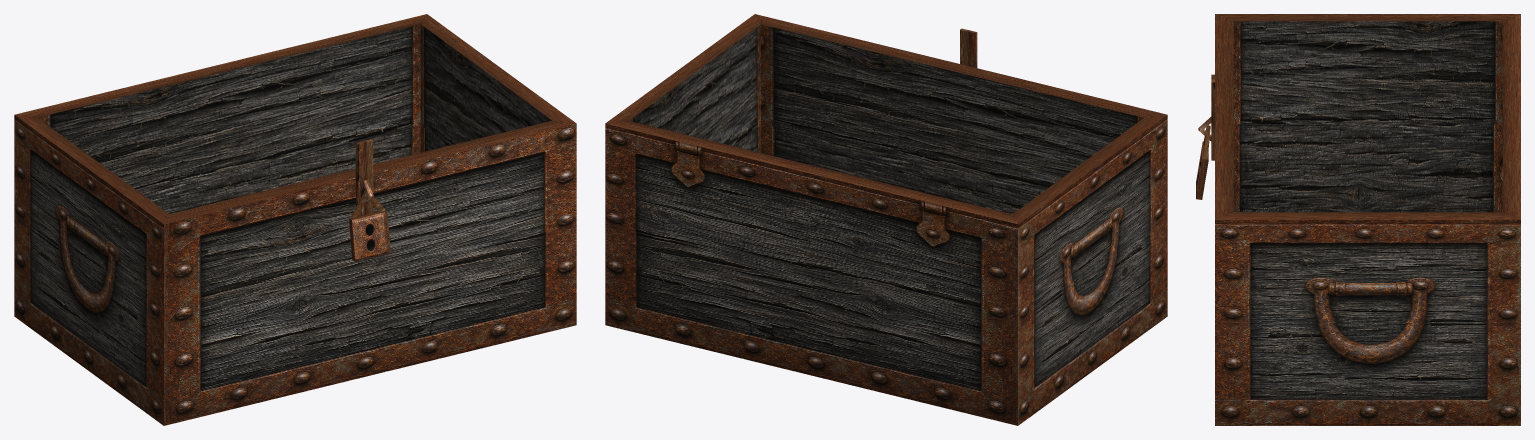
The model's file is mm9_deco_chest1.glb.
The picture shows the model from 3 angles, left to right: view 1: azimuth 30°, elevation 25°; view 2: azimuth 150°, elevation 25°; view 3: azimuth 270°, elevation 25°; orthographic projection. The views are drawn at different scales.
Visible parts, largest first — view 1: Chest1; view 2: Chest1; view 3: Chest1.
Part boxes in pixels (x1=…): Chest1: x1=14, y1=14, x2=576, y2=425; Chest1: x1=605, y1=14, x2=1167, y2=425; Chest1: x1=1196, y1=14, x2=1520, y2=425.
Bounding box in the file's own units: 1 × 0.5471 × 0.6674.
Materials: 2 (2 with a texture image).
